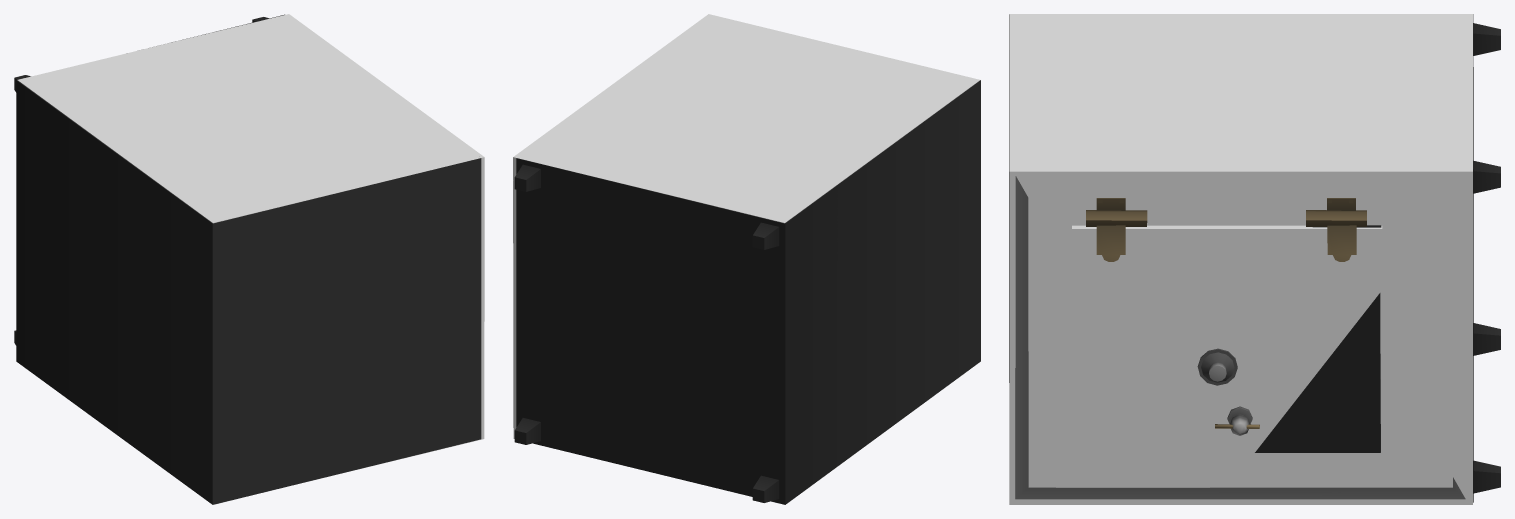
The model's file is pvp_safe.fbx.
3 views of the same model, side by side, from view 1: azimuth 30°, elevation 25°; view 2: azimuth 150°, elevation 25°; view 3: azimuth 270°, elevation 25° (orthographic). The views are drawn at different scales.
Visible parts, largest first — view 1: g_slaughterhouse_safe, c_box_007, c_box_006; view 2: g_slaughterhouse_safe, c_box_007, c_box_005; view 3: c_box_007, c_box_door, g_slaughterhouse_safe, g_slaughterhouse_safe_door, c_box_005, c_box_004, c_box_001, c_box_003, c_box_008, c_box_002, c_box_006.
Part boxes in pixels (bbox=[...]): g_slaughterhouse_safe: bbox=[14, 14, 481, 504]; c_box_007: bbox=[17, 14, 484, 223]; c_box_006: bbox=[481, 181, 484, 415]; g_slaughterhouse_safe: bbox=[514, 80, 980, 504]; c_box_007: bbox=[513, 14, 979, 223]; c_box_005: bbox=[513, 180, 516, 415]; c_box_007: bbox=[1009, 14, 1472, 199]; c_box_door: bbox=[1072, 225, 1382, 453]; g_slaughterhouse_safe: bbox=[1009, 14, 1500, 502]; g_slaughterhouse_safe_door: bbox=[1096, 225, 1381, 452]; c_box_005: bbox=[1426, 199, 1472, 476]; c_box_004: bbox=[1036, 199, 1087, 476]; c_box_001: bbox=[1382, 238, 1426, 437]; c_box_003: bbox=[1087, 438, 1426, 476]; c_box_008: bbox=[1009, 477, 1472, 504]; c_box_002: bbox=[1087, 199, 1426, 238]; c_box_006: bbox=[1009, 199, 1036, 476].
Bounding box in the file's own units: 87.36 × 79.33 × 106.
